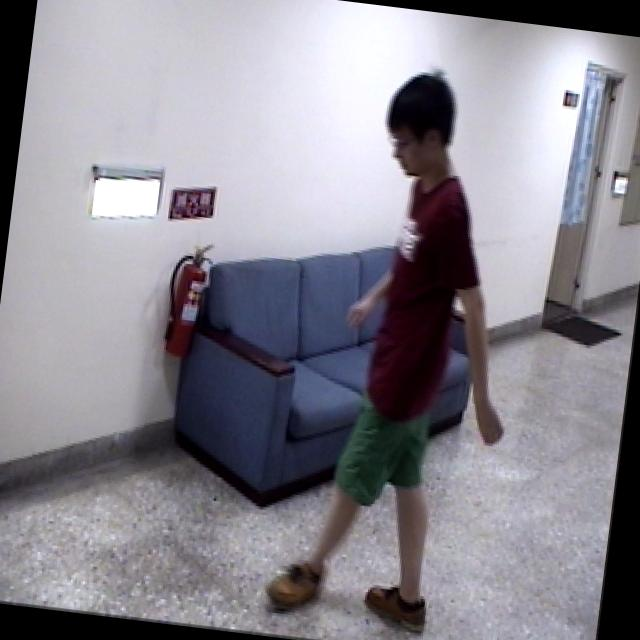stand: (257, 53, 552, 640)
